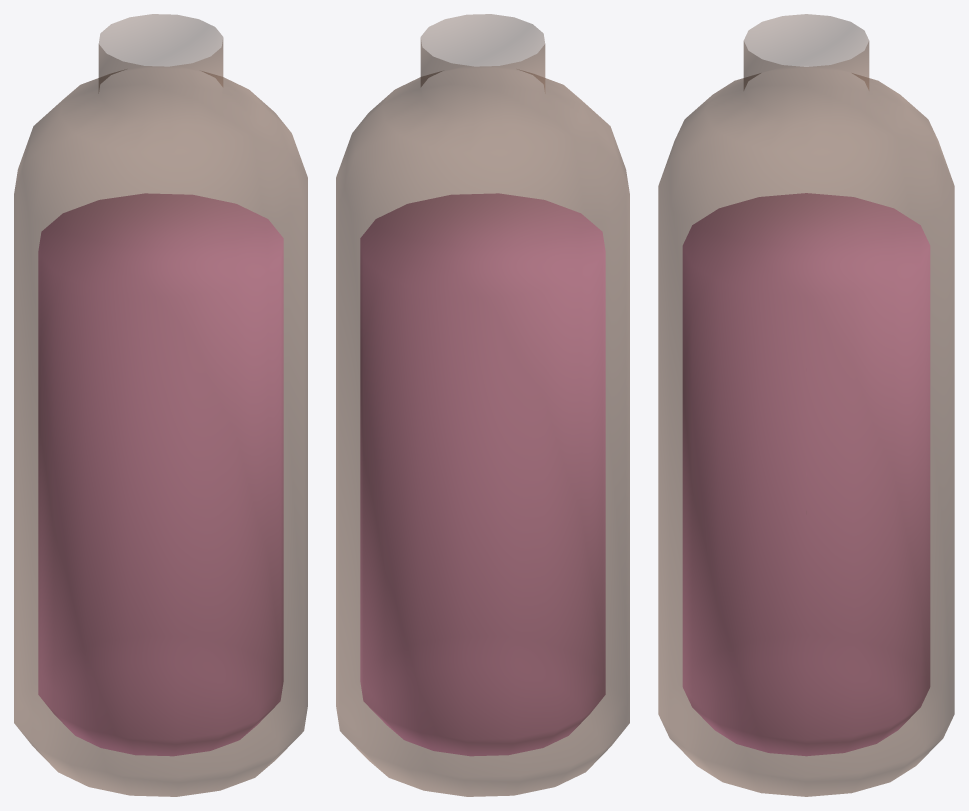
File: 検査薬_2.fbx
3 renders of one model, left to right at view 1: azimuth 30°, elevation 25°; view 2: azimuth 150°, elevation 25°; view 3: azimuth 270°, elevation 25°, orthographic.
Parts seen in each view (by area): view 1: 円, 円.001; view 2: 円, 円.001; view 3: 円, 円.001.
Boxes of the visible parts, x1,y1,x2,y2 form: 円: (14,14,307,796); 円.001: (38,193,283,756); 円: (336,14,629,796); 円.001: (360,193,605,756); 円: (658,14,954,796); 円.001: (682,193,930,756).
Size of the model in its own units: 200 by 527 by 200.
